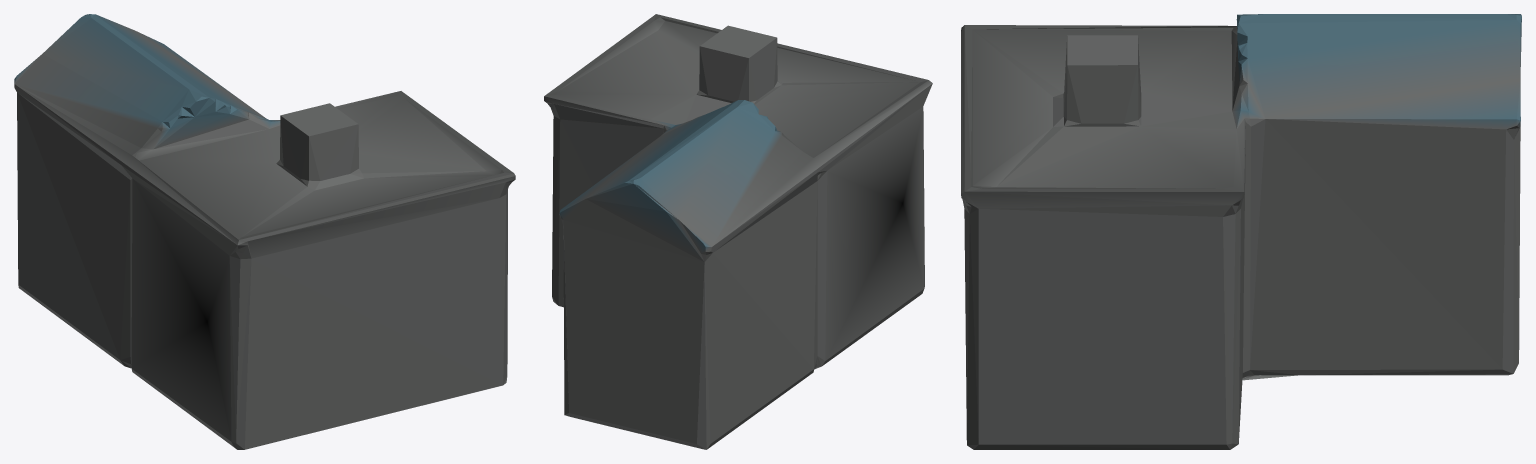
File: Apartment Buildings(2).glb
The picture shows the model from 3 angles, left to right: view 1: azimuth 30°, elevation 25°; view 2: azimuth 150°, elevation 25°; view 3: azimuth 270°, elevation 25°; orthographic projection. The views are drawn at different scales.
Visible parts, largest first — view 1: Root; view 2: Root; view 3: Root.
Part boxes in pixels (<box>): Root: <box>14,14,515,449</box>; Root: <box>544,14,932,449</box>; Root: <box>961,14,1521,449</box>.
Bounding box in the file's own units: 15.36 × 13.71 × 21.7.
